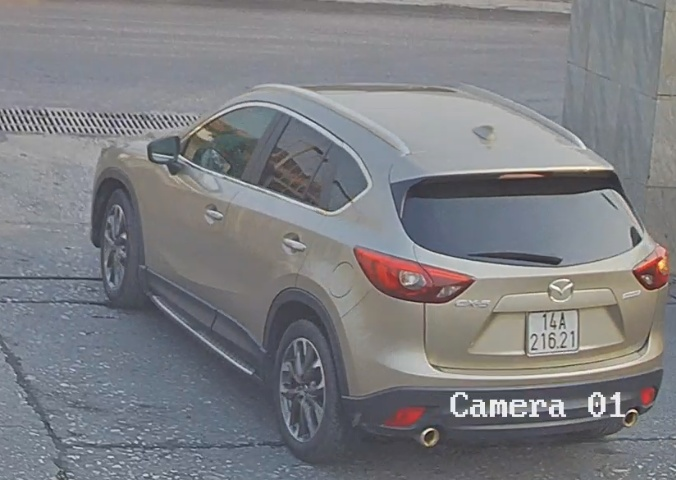vehicle plate: (527, 308, 581, 355)
